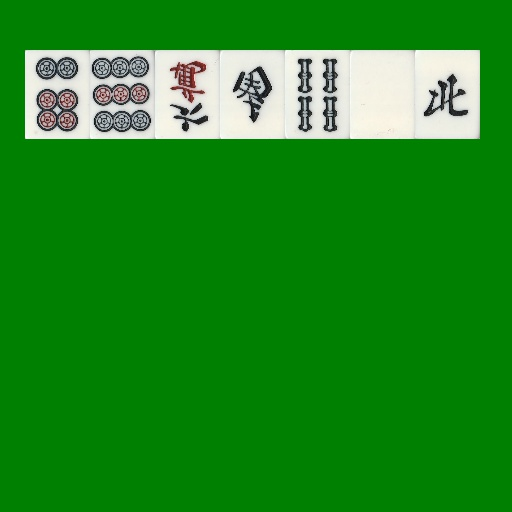4s: (285, 50, 350, 139)
6m: (155, 50, 220, 139)
6p: (25, 50, 90, 139)
9p: (90, 50, 155, 139)
north: (415, 50, 480, 139)
south: (220, 50, 285, 139)
white: (350, 50, 415, 139)
